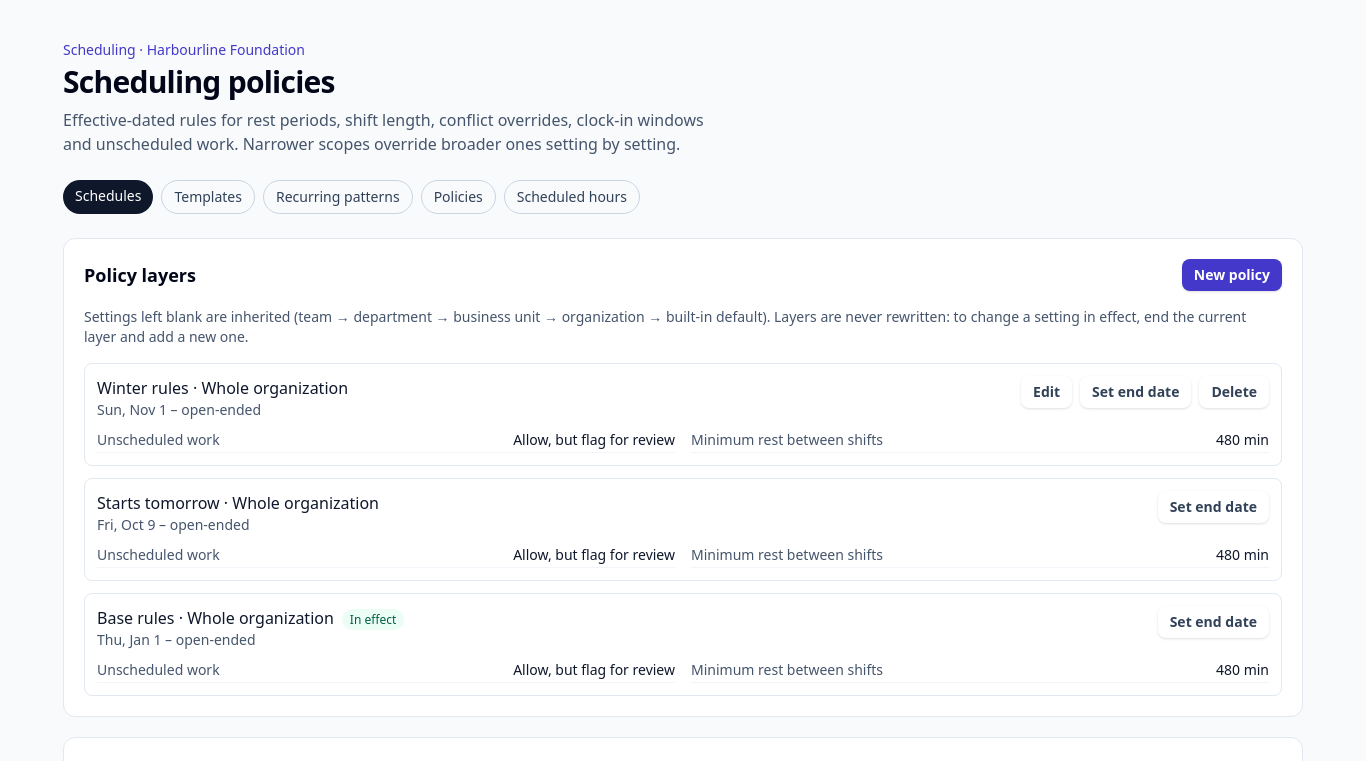
Scenario: SchedulePoliciesPage: editing a policy › shows the current values, sends only the changes and clears a setting with null
Click the button named "Edit Winter rules" at (1047, 392), box [1021,376,1072,408]
(page scrolled)
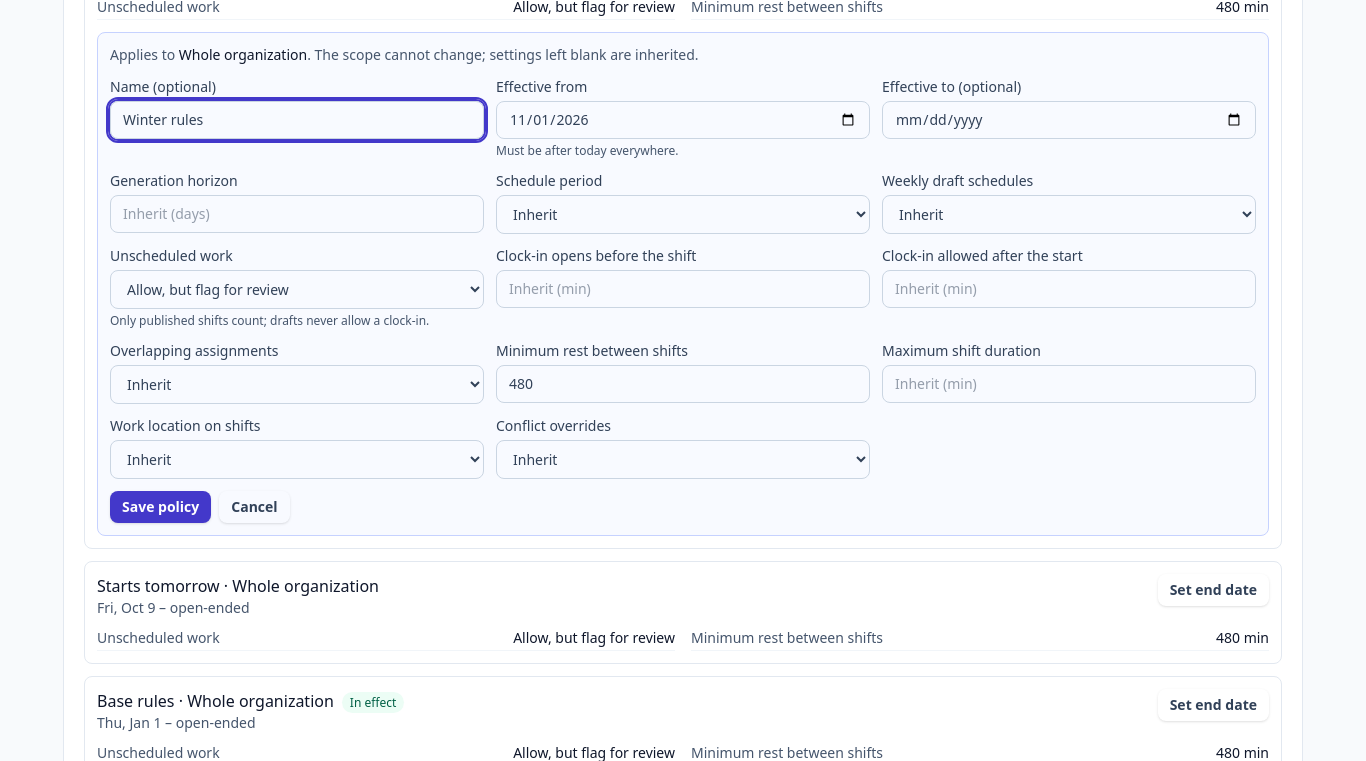
expect the form named "Edit Winter rules" shows "Applies to Whole organization": met, box [97,32,1269,536]
expect the number field labelled "Minimum rest between shifts" holds "480": met
expect the dropdown labelled "Unscheduled work" shows "Allow, but flag for review": met, box [110,270,484,309]
Replace the text in the number field labelled "Minimum rest between shifts" with "600" at (683, 384), box [496,365,870,403]
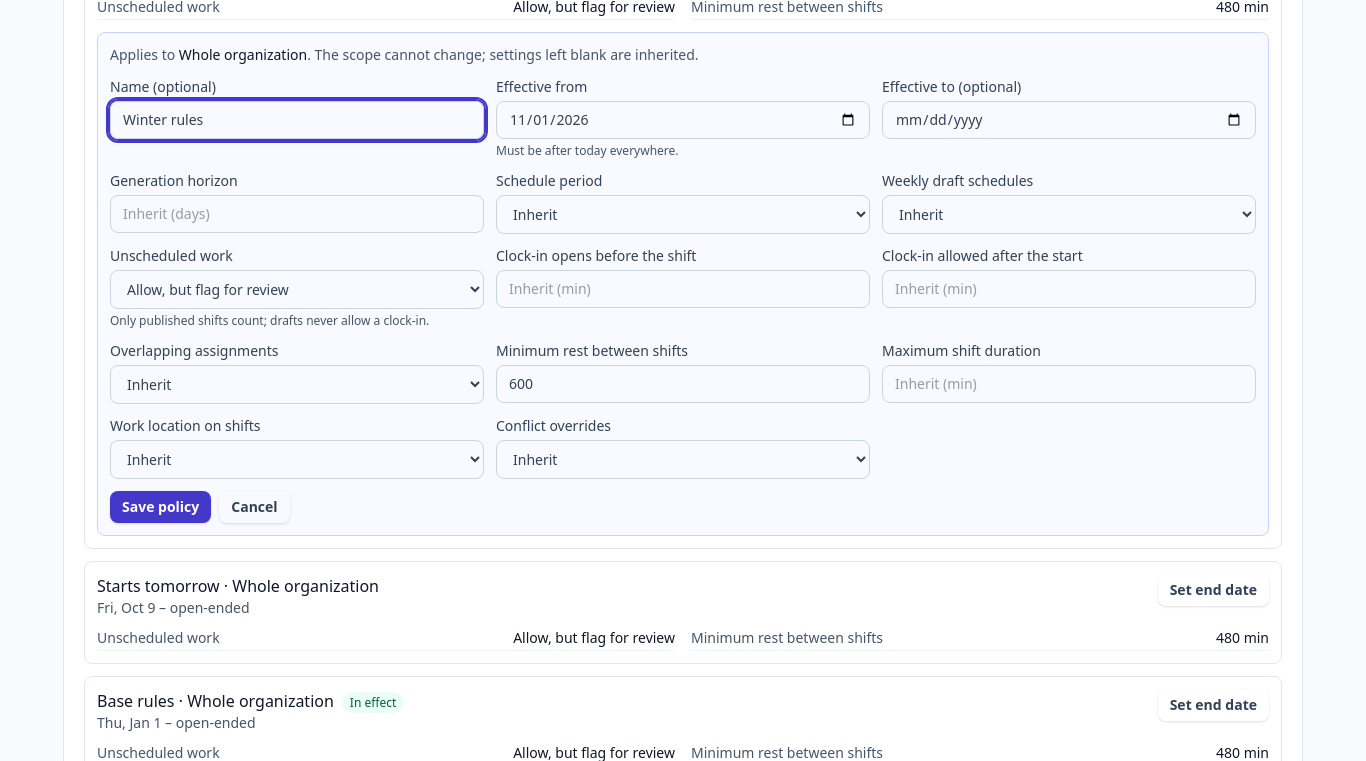
Select "Inherit" in the dropdown labelled "Unscheduled work" at (297, 290), box [110,270,484,309]
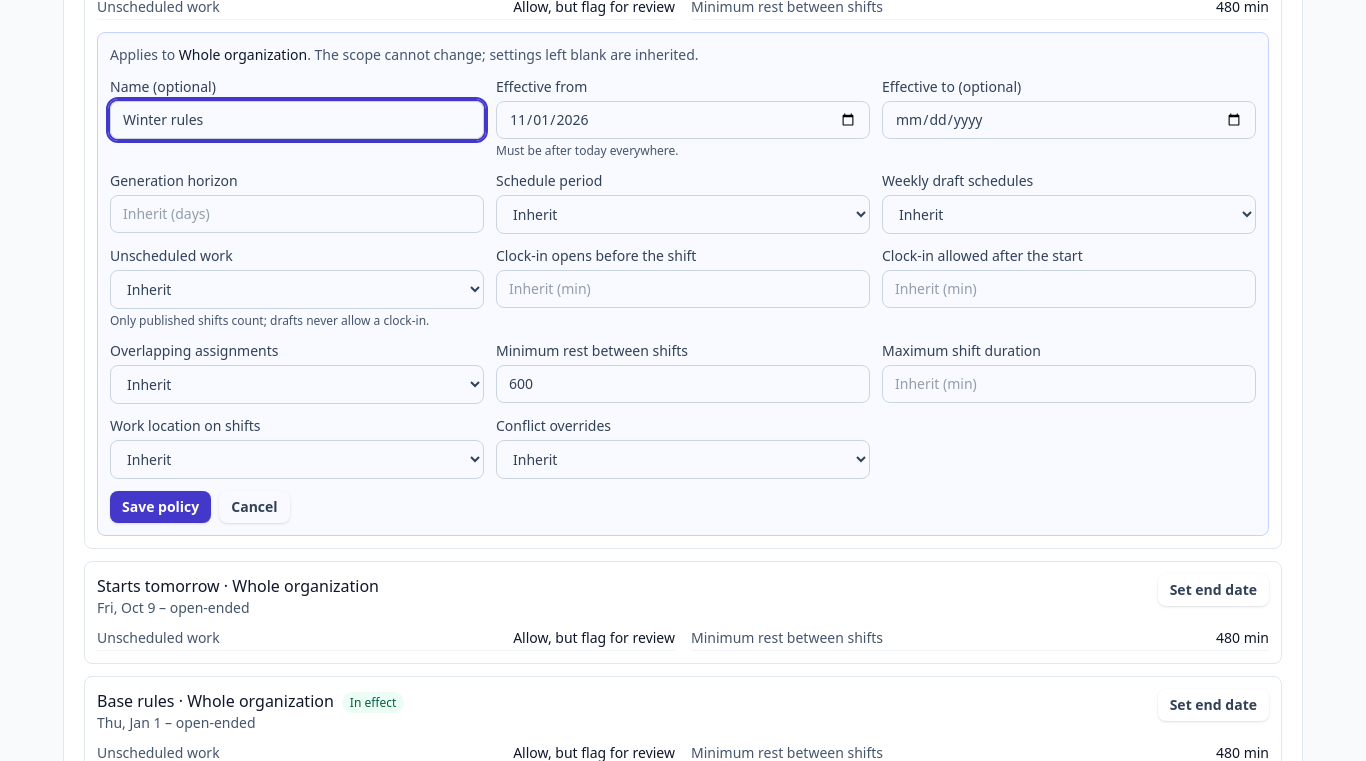
Click the button "Save policy" at (161, 507), box [110,491,211,523]
(page scrolled)
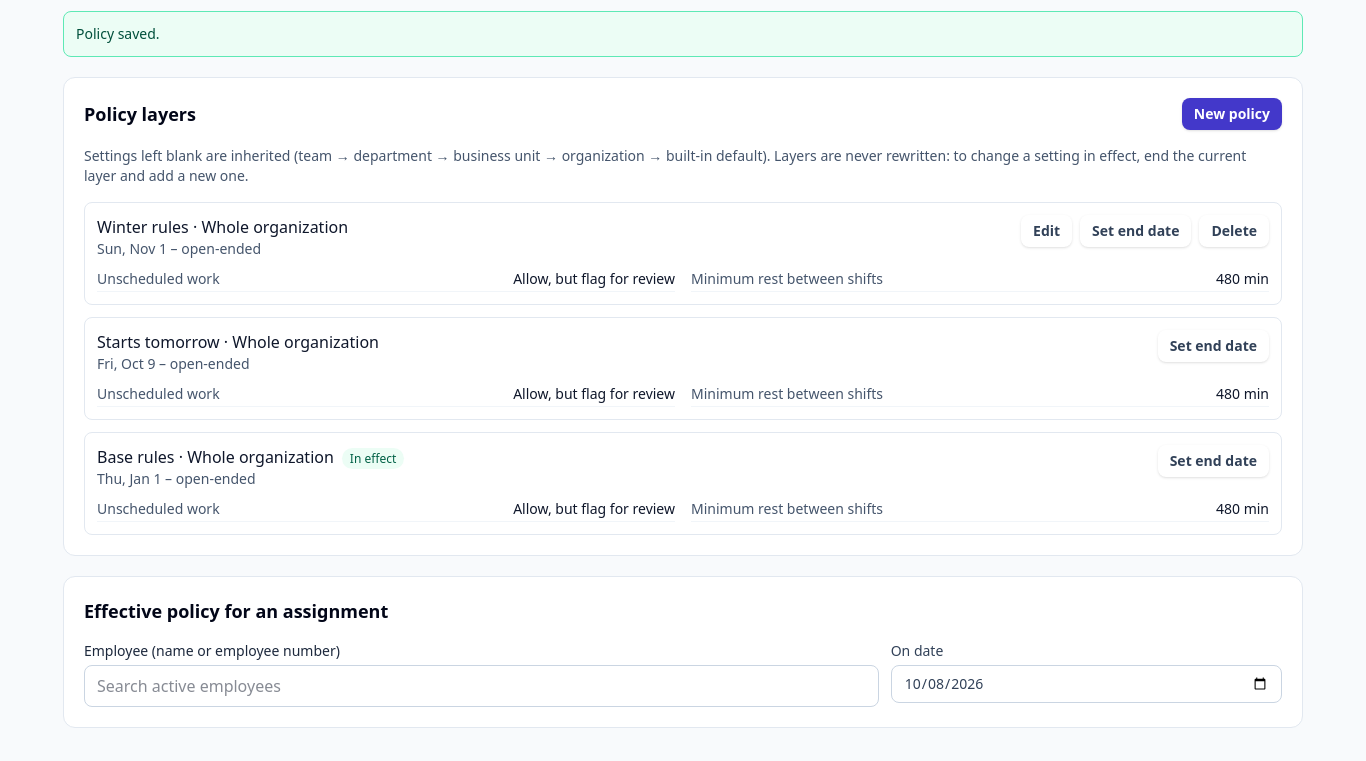
expect the text "Policy saved." is shown: met, box [63,11,1303,57]
